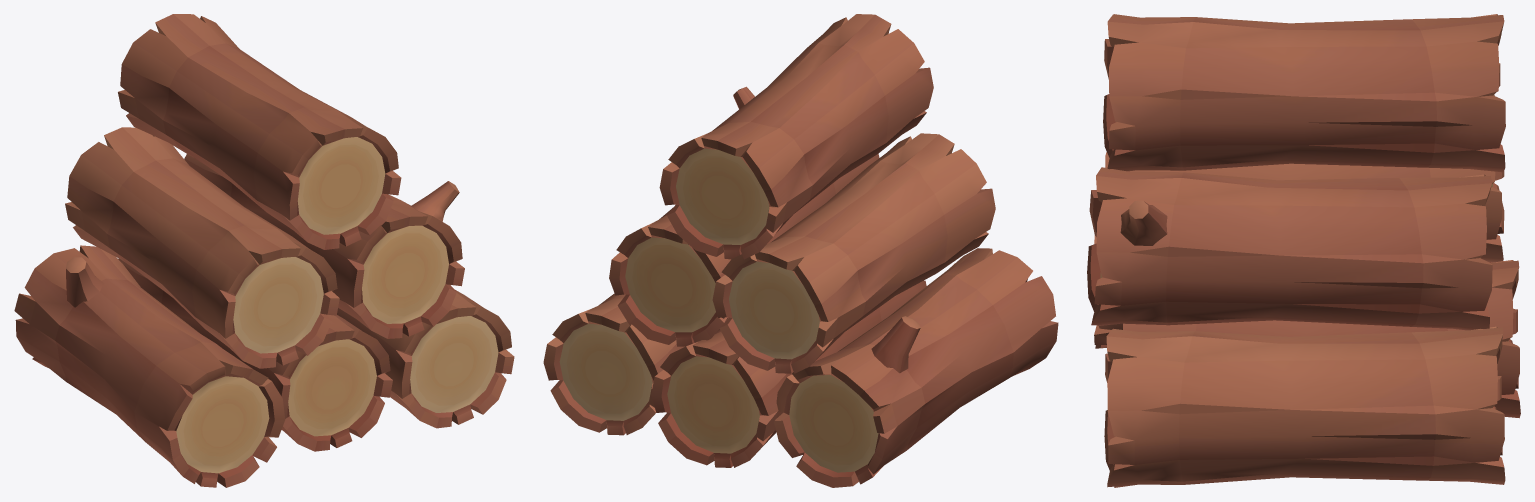
The model's file is woodpile.glb.
The picture shows the model from 3 angles, left to right: view 1: azimuth 30°, elevation 25°; view 2: azimuth 150°, elevation 25°; view 3: azimuth 270°, elevation 25°; orthographic projection. The views are drawn at different scales.
Visible parts, largest first — view 1: Wood_Log_Stack.001; view 2: Wood_Log_Stack.001; view 3: Wood_Log_Stack.001.
Boxes of the visible parts, x1,y1,x2,y2 form: Wood_Log_Stack.001: (14,14,514,487); Wood_Log_Stack.001: (543,14,1058,487); Wood_Log_Stack.001: (1087,14,1520,487).
Size of the model in its own units: 1.68 by 1.5 by 1.5.
1 material, 1 textured.
